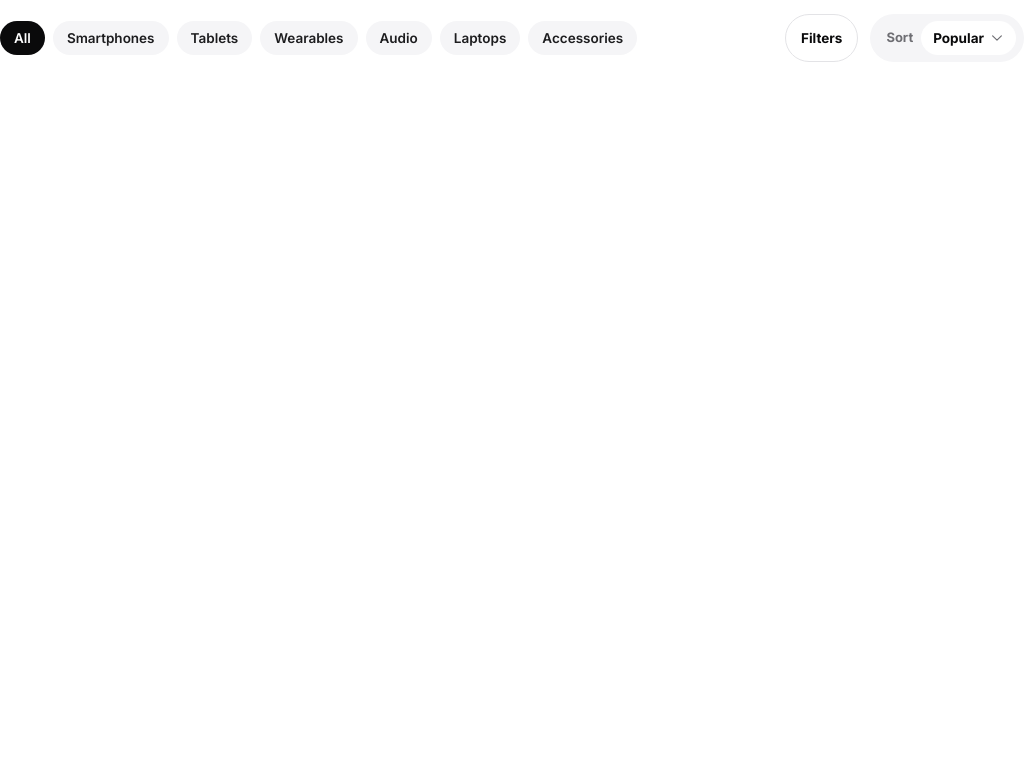
Test: ProductToolbar › applies price and sale filters
Click the button "Filters" at (822, 38), box x1=785 y1=14 x2=858 y2=62
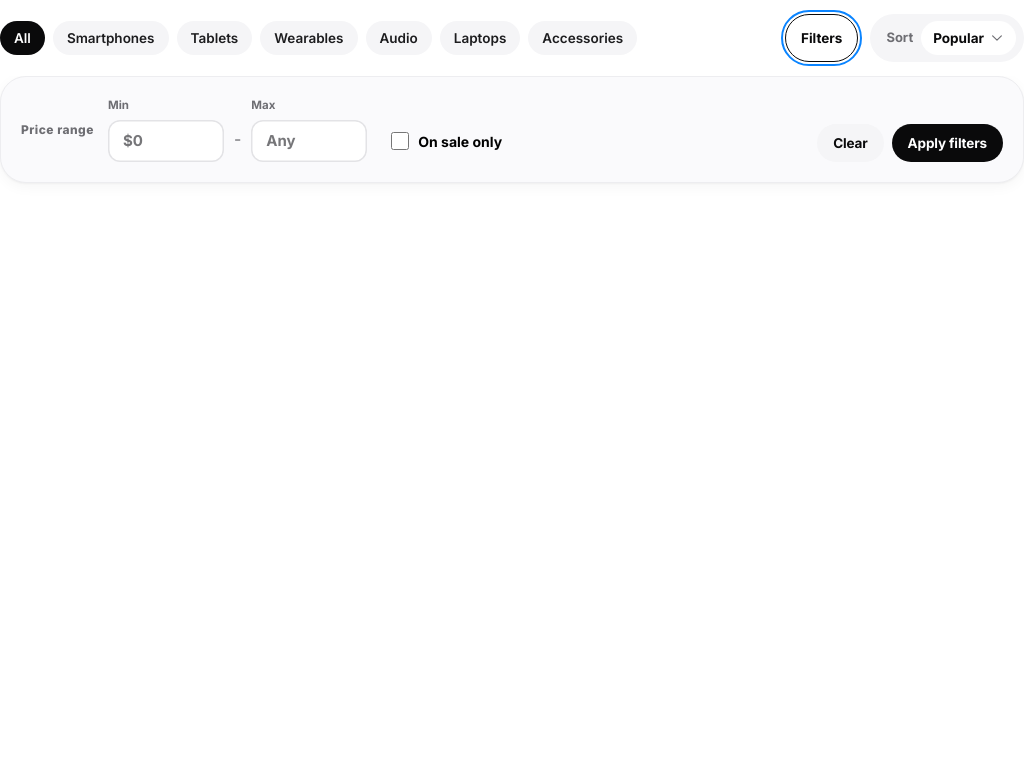
Type "100" into the number field labelled "Min" at (166, 141), box x1=108 y1=120 x2=224 y2=162
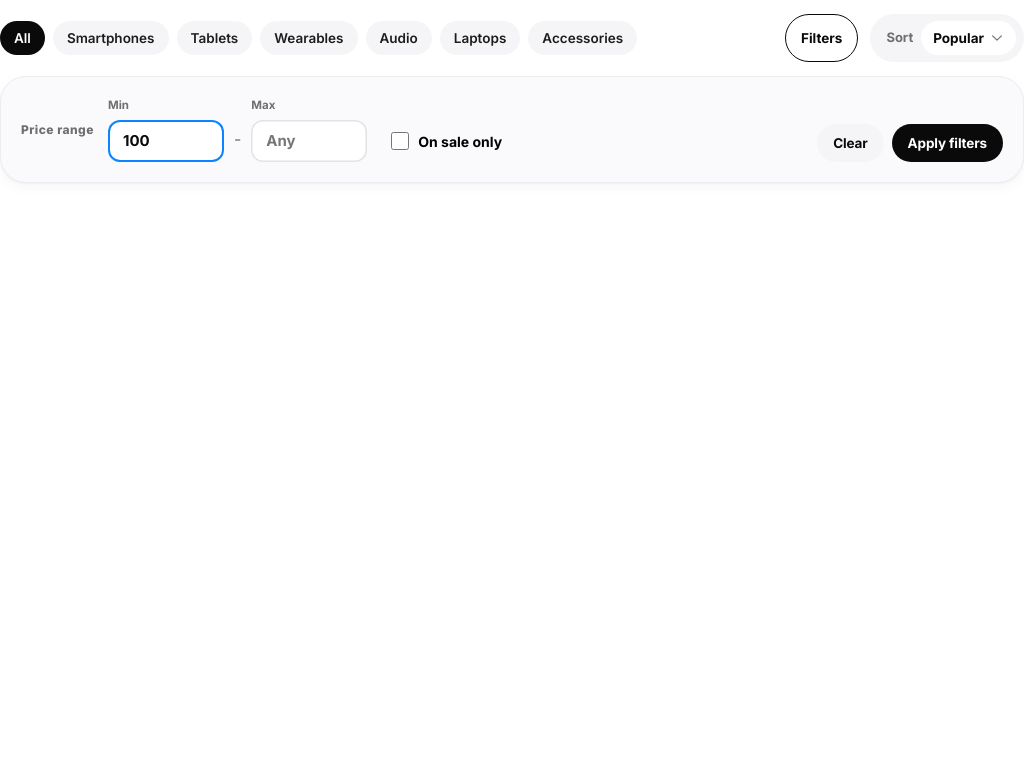
Type "1200" into the number field labelled "Max" at (309, 141), box x1=251 y1=120 x2=367 y2=162
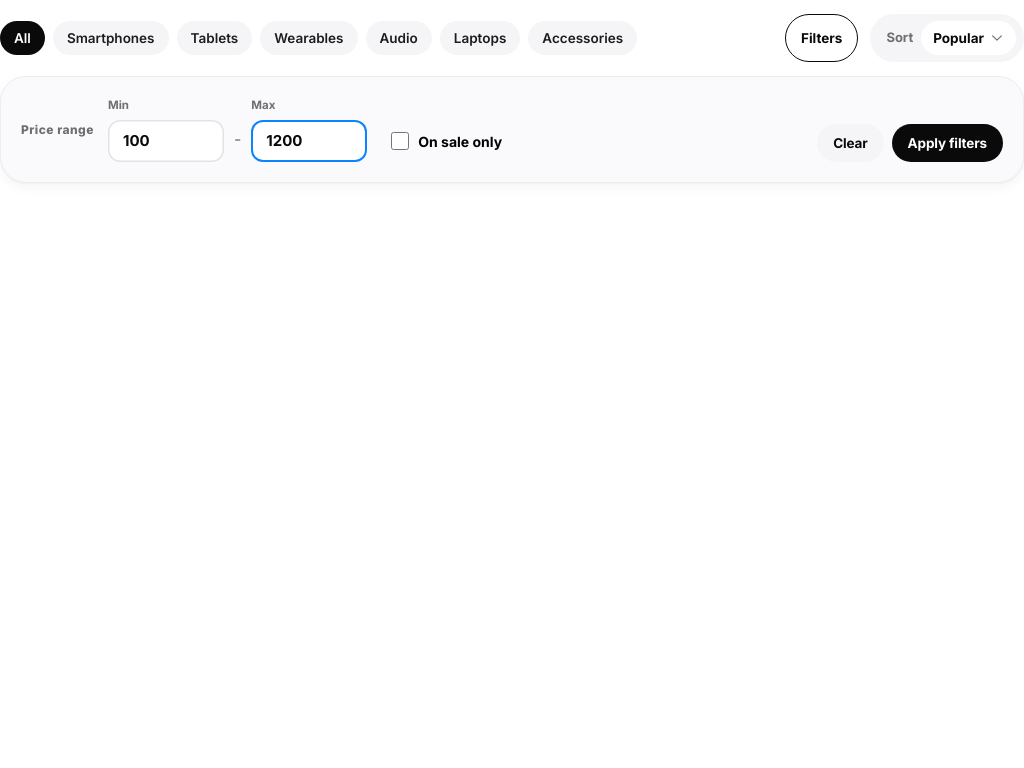
Click the checkbox labelled "On sale only" at (400, 141), box x1=391 y1=132 x2=409 y2=150
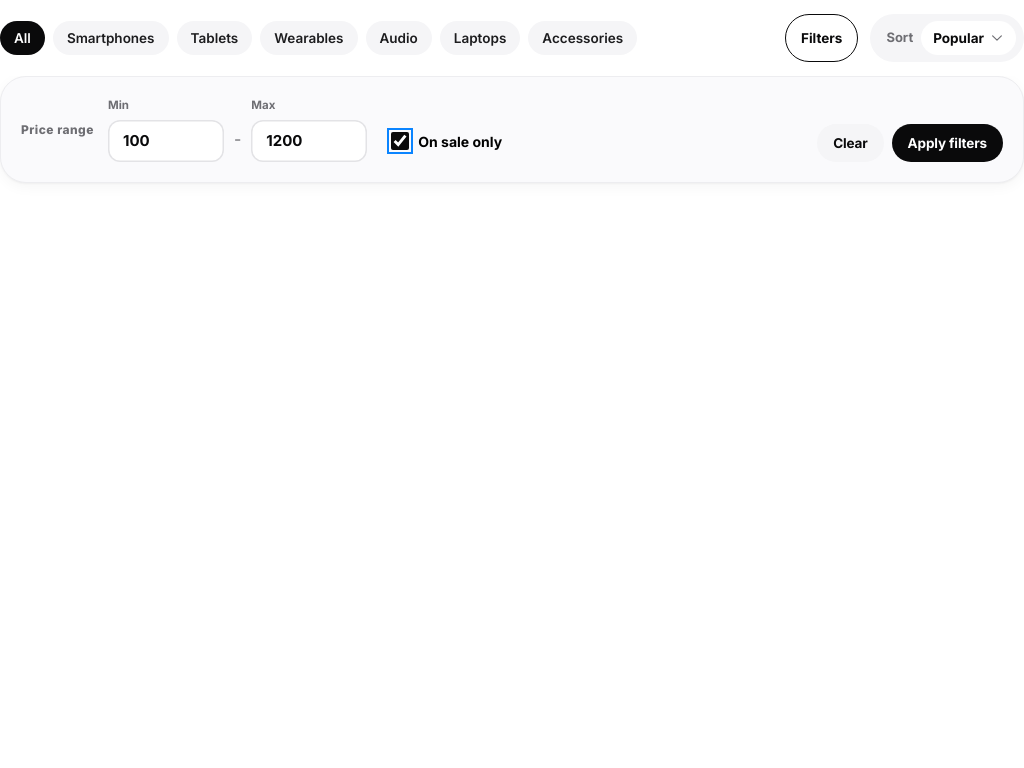
Click the button "Apply filters" at (947, 143), box x1=892 y1=124 x2=1003 y2=162
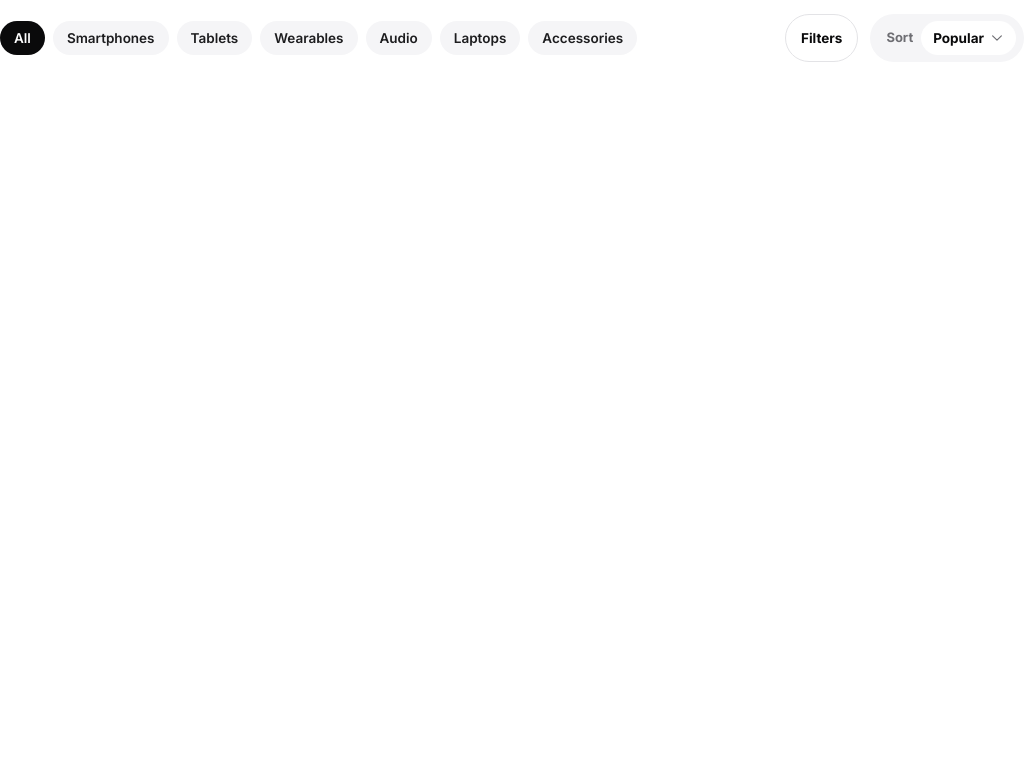
Expected: the dialog is gone
